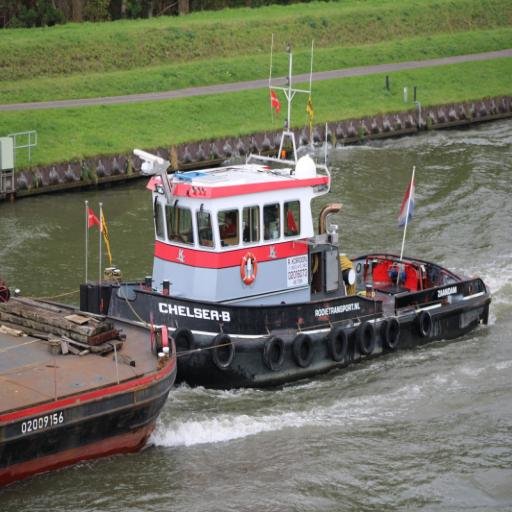tugboat: (79, 130, 495, 398)
